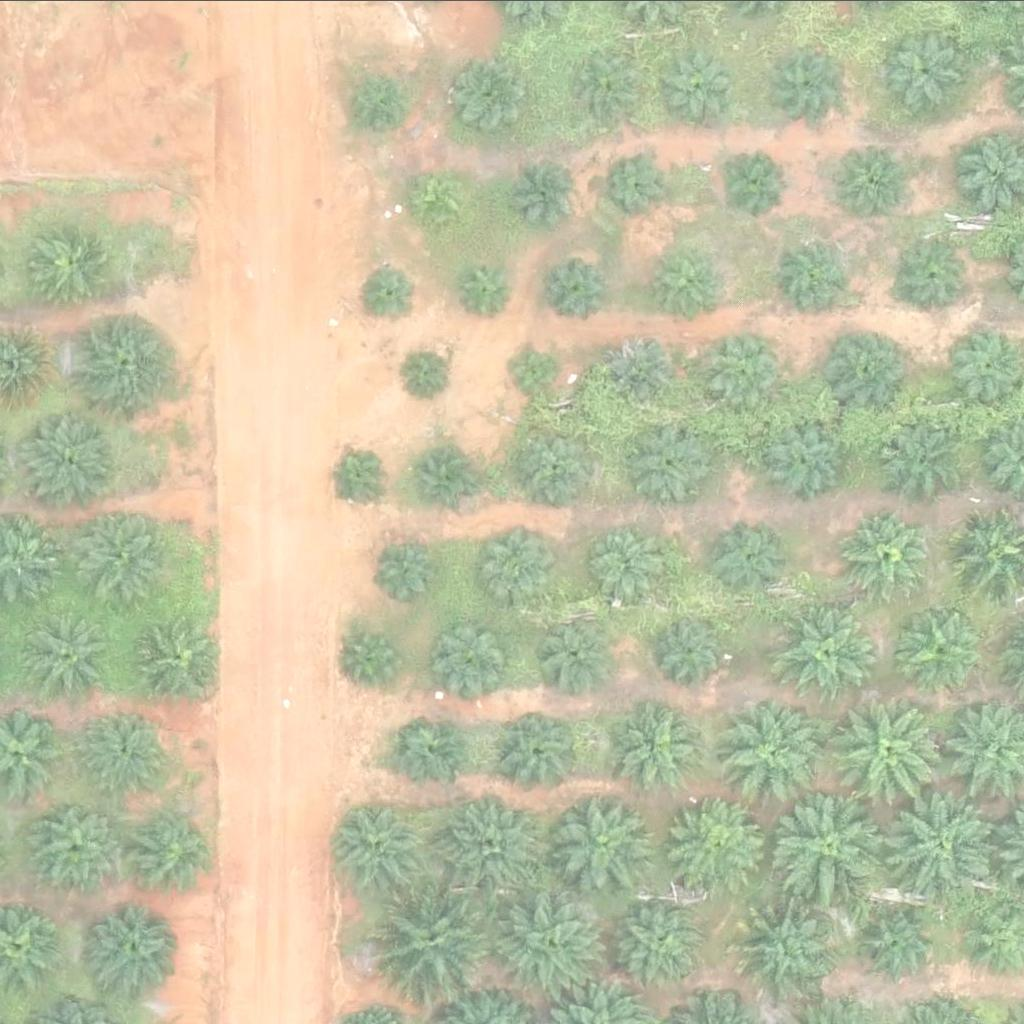Kelapa_Sawit: (367, 876, 493, 1001), (490, 880, 616, 1005), (766, 778, 892, 903), (879, 778, 1005, 903), (826, 686, 952, 811), (66, 507, 167, 607), (18, 407, 119, 507), (72, 308, 173, 408), (737, 893, 838, 993), (80, 893, 180, 993), (26, 791, 126, 891), (330, 796, 430, 896), (446, 792, 546, 892), (553, 792, 653, 892), (670, 790, 770, 890), (726, 699, 826, 799), (777, 605, 877, 705), (884, 21, 973, 109), (624, 417, 712, 505), (824, 322, 912, 410), (82, 704, 170, 792), (22, 608, 110, 696), (132, 611, 220, 699), (29, 214, 117, 302), (616, 702, 704, 790), (764, 413, 852, 501), (901, 604, 989, 692), (495, 708, 583, 795), (129, 804, 217, 891), (620, 897, 708, 984), (845, 509, 933, 596), (883, 414, 971, 501), (586, 526, 662, 601), (534, 616, 610, 691), (653, 611, 729, 686), (709, 522, 785, 597), (567, 43, 643, 118), (457, 59, 533, 134), (395, 716, 471, 791), (437, 618, 512, 693), (479, 525, 554, 600), (523, 427, 598, 502), (899, 233, 974, 308), (783, 245, 858, 320), (774, 44, 849, 119), (658, 43, 733, 118), (709, 335, 784, 410), (863, 907, 938, 982), (608, 328, 683, 403), (513, 156, 588, 231), (603, 142, 678, 217), (717, 144, 792, 219), (841, 141, 916, 216), (327, 445, 390, 508), (416, 444, 479, 507), (656, 247, 719, 310), (411, 170, 474, 233), (349, 78, 412, 141), (343, 626, 406, 688), (376, 536, 439, 598), (358, 261, 421, 323), (458, 257, 521, 319), (545, 257, 608, 319), (402, 343, 453, 393), (508, 344, 559, 394)
